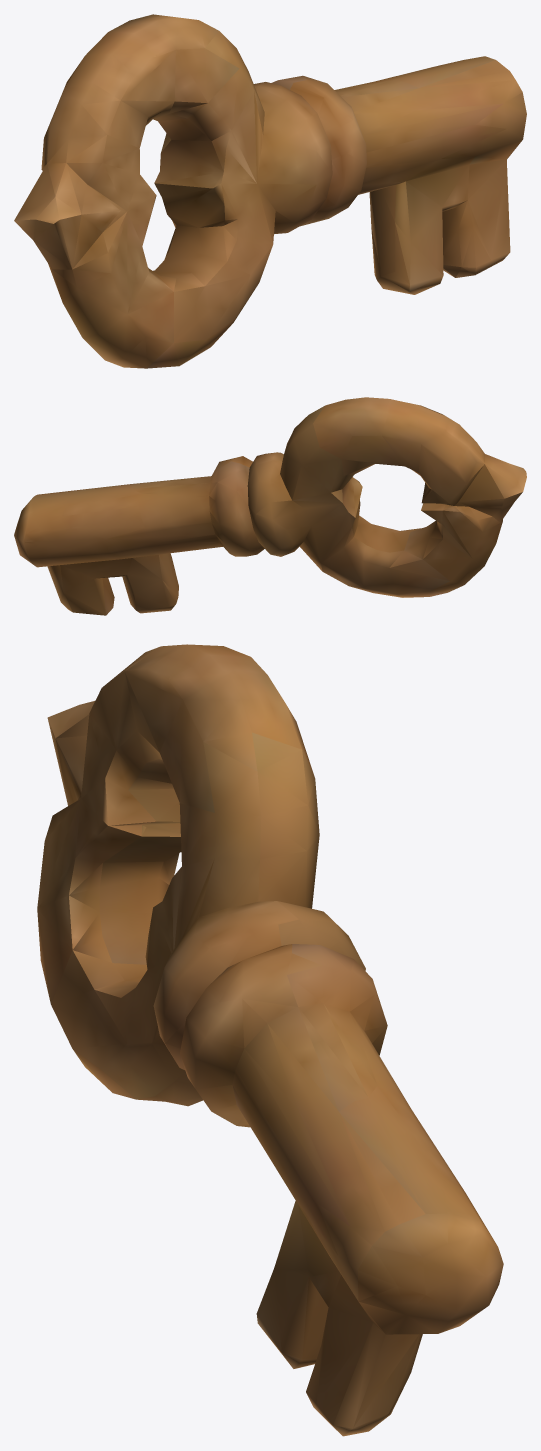
Rendered from llave_pequena.glb.
3 renders of one model, top to bottom at view 1: azimuth 30°, elevation 25°; view 2: azimuth 150°, elevation 25°; view 3: azimuth 270°, elevation 25°, orthographic. The views are drawn at different scales.
Parts seen in each view (by area): view 1: llave_pequena_malla; view 2: llave_pequena_malla; view 3: llave_pequena_malla.
Boxes of the visible parts, left/top/right/bottom form: llave_pequena_malla: left=14, top=14, right=526, bottom=368; llave_pequena_malla: left=14, top=397, right=526, bottom=615; llave_pequena_malla: left=37, top=644, right=503, bottom=1436.
Size of the model in its own units: 0.2364 by 0.1353 by 0.1134.
1 material, 1 textured.
